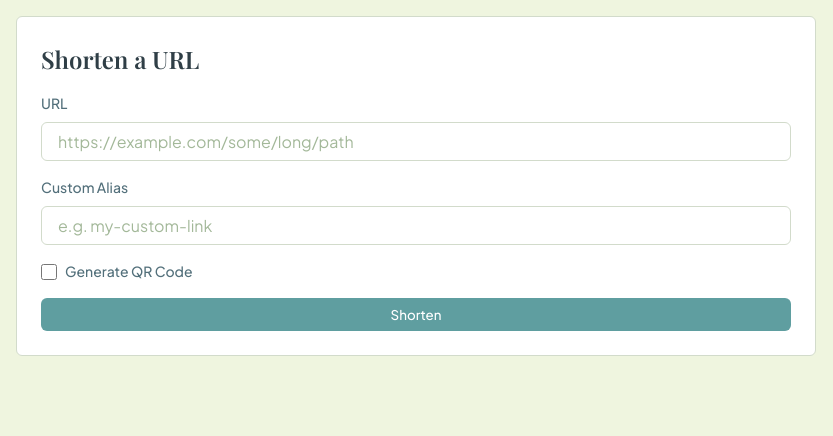
Scenario: URL Shortener Frontend App › submits form successfully and displays short URL
Type "https://google.com" into the field labelled "URL" at [416, 142], box [41,122,791,161]
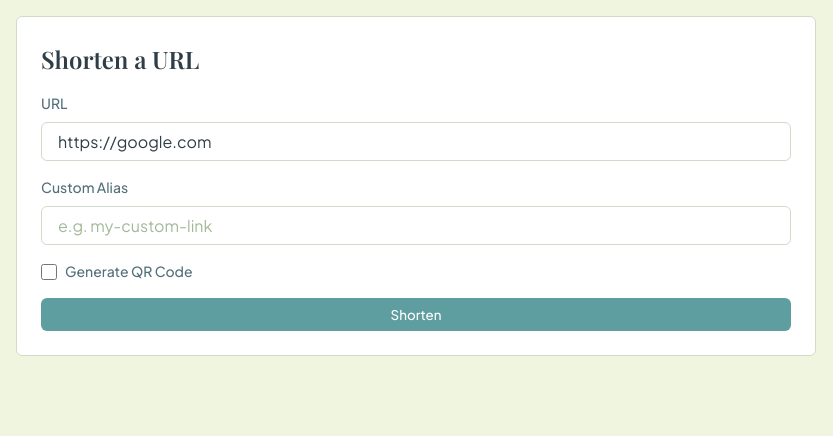
Type "abc123" into the field labelled "Custom Alias" at [416, 226], box [41,206,791,245]
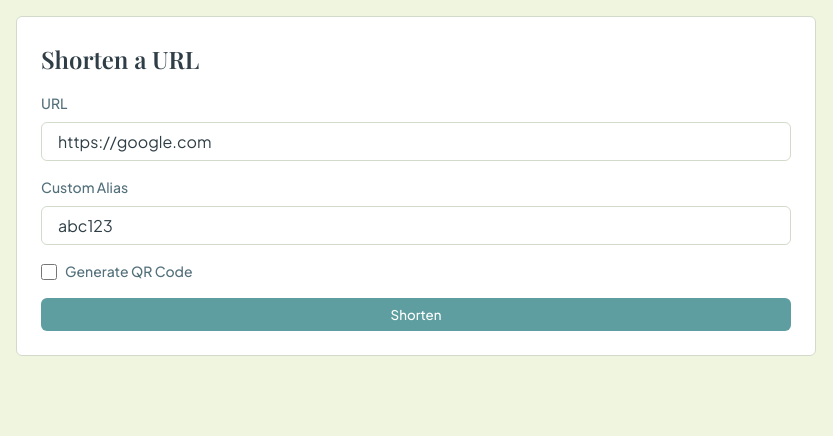
Click the button "Shorten" at [416, 314], box [41,298,791,331]
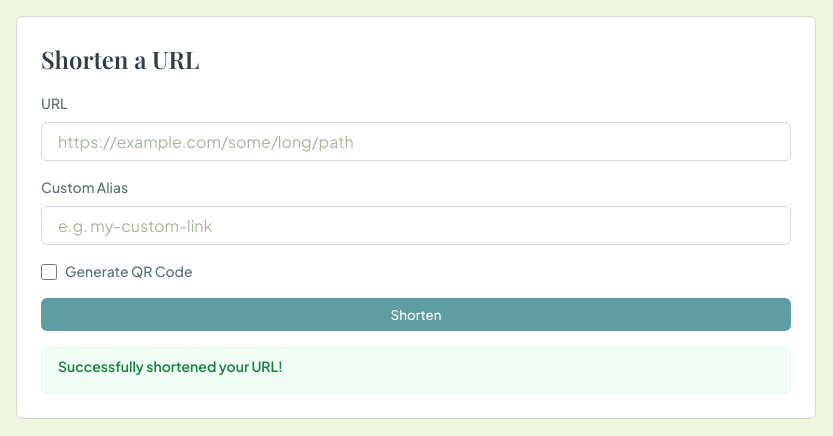
expect the element with test id "success-message" reads "Successfully shortened your URL!": met, box [58,357,283,375]
